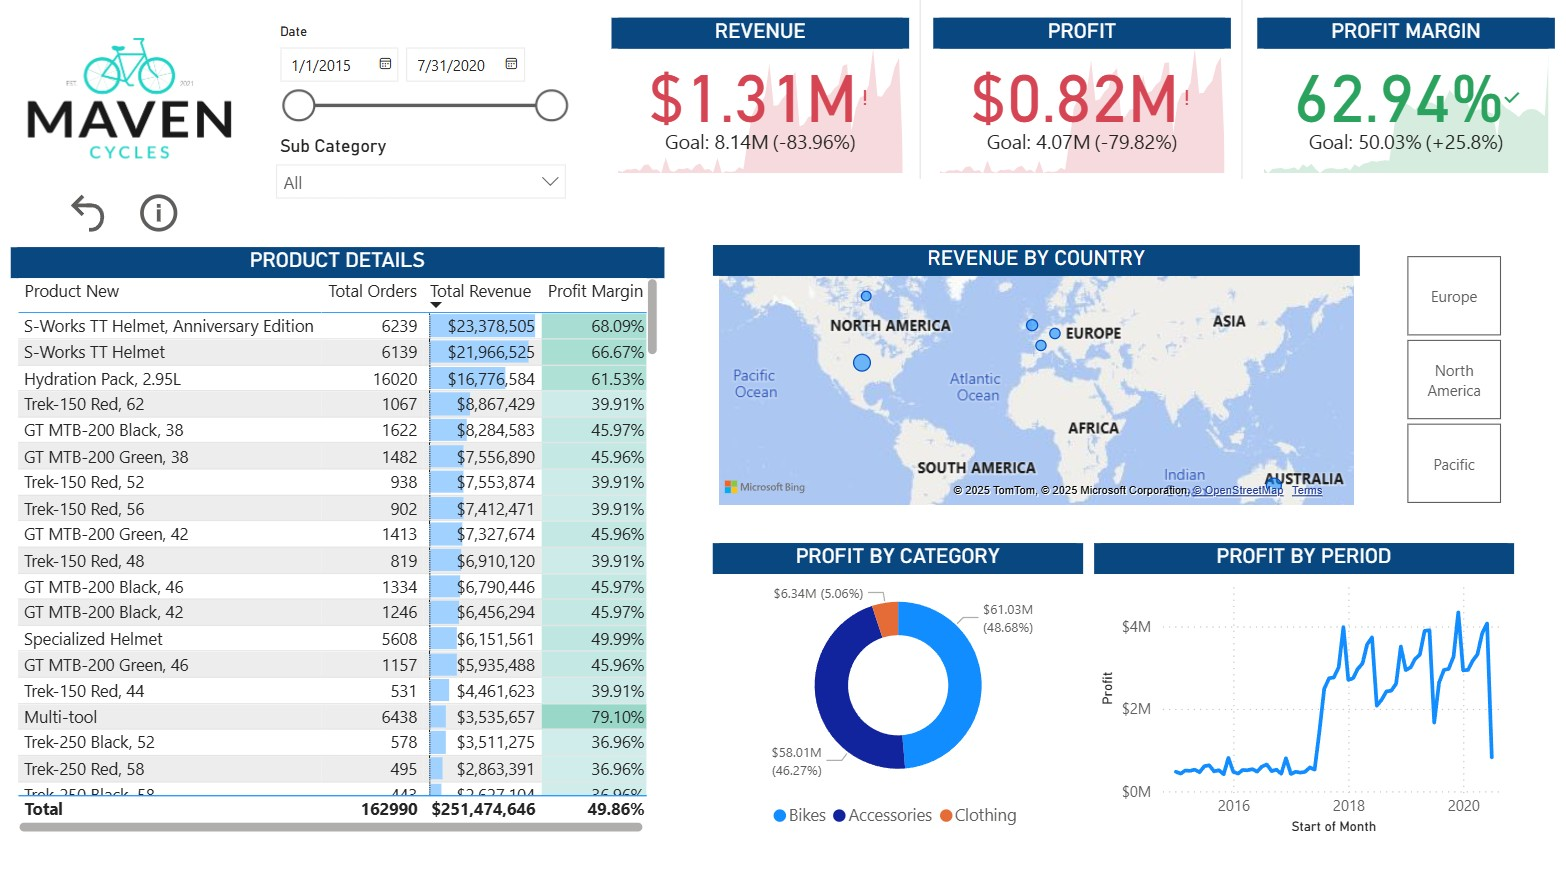

This screenshot's page, from the dashboard's own definition file:
{"tool":"powerbi","page":{"name":"Executive View","canvas":[1280,720],"ordinal":0},"visuals":[{"type":"kpi","title":"REVENUE","fields":{"Indicator":["Maven Cycles Sales.Total Revenue"],"TrendLine":["Maven Cycles Calendar.Start of Month"],"Goal":["Maven Cycles Sales.Last Month Revenue"]},"box":[497,20,240,130],"z":0},{"type":"kpi","title":"PROFIT","fields":{"TrendLine":["Maven Cycles Calendar.Start of Month"],"Goal":["Maven Cycles Sales.Last Month Profit"],"Indicator":["Maven Cycles Sales.Profit"]},"box":[756.4,20,240,130],"z":1000},{"type":"kpi","title":"PROFIT MARGIN","fields":{"TrendLine":["Maven Cycles Calendar.Start of Month"],"Indicator":["Maven Cycles Sales.Profit Margin"],"Goal":["Maven Cycles Sales.Last Month Profit Margin"]},"box":[1018,20,240,130],"z":2000},{"type":"tableEx","title":"PRODUCT DETAILS","fields":{"Values":["Maven Cycles Products.Product New","Maven Cycles Sales.Total Orders","Maven Cycles Sales.Total Revenue","Maven Cycles Sales.Profit Margin"]},"box":[13,204.7,526.7,476.7],"z":3000},{"type":"map","title":"REVENUE BY COUNTRY","fields":{"Size":["Maven Cycles Sales.Total Revenue"],"Category":["Maven Cycles Regions.Country"]},"box":[578.3,203.3,521.7,215],"z":4000},{"type":"lineChart","title":"PROFIT BY PERIOD","fields":{"Y":["Maven Cycles Sales.Profit"],"Category":["Maven Cycles Calendar.Start of Month","Maven Cycles Calendar.Year"]},"box":[886.7,443.3,338.3,238.3],"z":5000},{"type":"donutChart","title":"PROFIT BY CATEGORY","fields":{"Y":["Maven Cycles Sales.Profit"],"Category":["Maven Cycles Product Categories.Product Category"]},"box":[578.3,443.3,298.3,238.3],"z":6000},{"type":"shape","box":[638,0,216.7,150],"z":6001},{"type":"shape","box":[897.2,0,216.7,150],"z":6002},{"type":"image","box":[15.7,20,185.7,130],"z":6003},{"type":"slicer","fields":{"Values":["Maven Cycles Calendar.Date"]},"box":[216.7,20,253.3,130],"z":6004},{"type":"actionButton","box":[54.2,156.8,42,40],"z":6005},{"type":"actionButton","box":[111.2,156.8,43,40],"z":6006},{"type":"slicer","fields":{"Values":["Maven Cycles Product Subcategories.Sub Category"]},"box":[216.7,110,253.3,66.7],"z":6007},{"type":"slicer","fields":{"Values":["Maven Cycles Regions.Continent"]},"box":[1113.3,205,125,213.3],"z":6008}]}

Visuals, with their boxes in screenshot pixels (x1, y1, x2, y2), scaled from the page's 1280x720 canvas onto the 1566x878 screenshot:
"REVENUE" kpi: [left=608, top=24, right=902, bottom=183]
"PROFIT" kpi: [left=925, top=24, right=1219, bottom=183]
"PROFIT MARGIN" kpi: [left=1245, top=24, right=1539, bottom=183]
"PRODUCT DETAILS" tableEx: [left=16, top=250, right=660, bottom=831]
"REVENUE BY COUNTRY" map: [left=708, top=248, right=1346, bottom=510]
"PROFIT BY PERIOD" lineChart: [left=1085, top=541, right=1499, bottom=831]
"PROFIT BY CATEGORY" donutChart: [left=708, top=541, right=1072, bottom=831]
shape: [left=781, top=0, right=1046, bottom=183]
shape: [left=1098, top=0, right=1363, bottom=183]
image: [left=19, top=24, right=246, bottom=183]
slicer - Maven Cycles Calendar.Date: [left=265, top=24, right=575, bottom=183]
actionButton: [left=66, top=191, right=118, bottom=240]
actionButton: [left=136, top=191, right=189, bottom=240]
slicer - Maven Cycles Product Subcategories.Sub Category: [left=265, top=134, right=575, bottom=215]
slicer - Maven Cycles Regions.Continent: [left=1362, top=250, right=1515, bottom=510]
